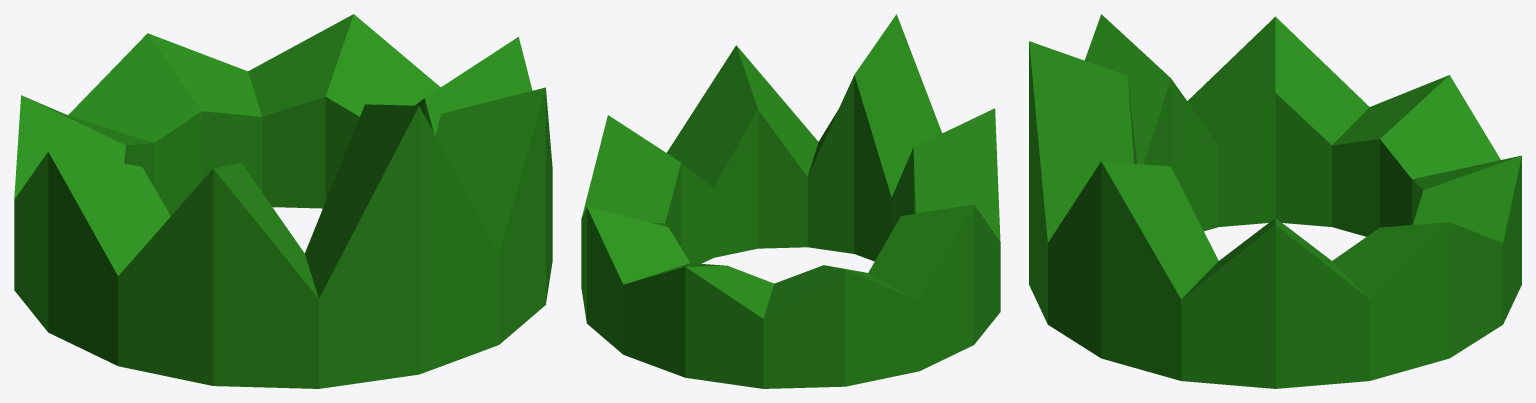
Rendered from playerCrownGreen.fbx.
3 renders of one model, left to right at view 1: azimuth 30°, elevation 25°; view 2: azimuth 150°, elevation 25°; view 3: azimuth 270°, elevation 25°, orthographic. The views are drawn at different scales.
Visible parts, largest first — view 1: PlayerCrown - Green; view 2: PlayerCrown - Green; view 3: PlayerCrown - Green.
Boxes of the visible parts, x1,y1,x2,y2 form: PlayerCrown - Green: [14, 14, 552, 388]; PlayerCrown - Green: [581, 14, 1000, 388]; PlayerCrown - Green: [1029, 14, 1521, 388].
Size of the model in its own units: 36.08 by 36.08 by 19.7.
